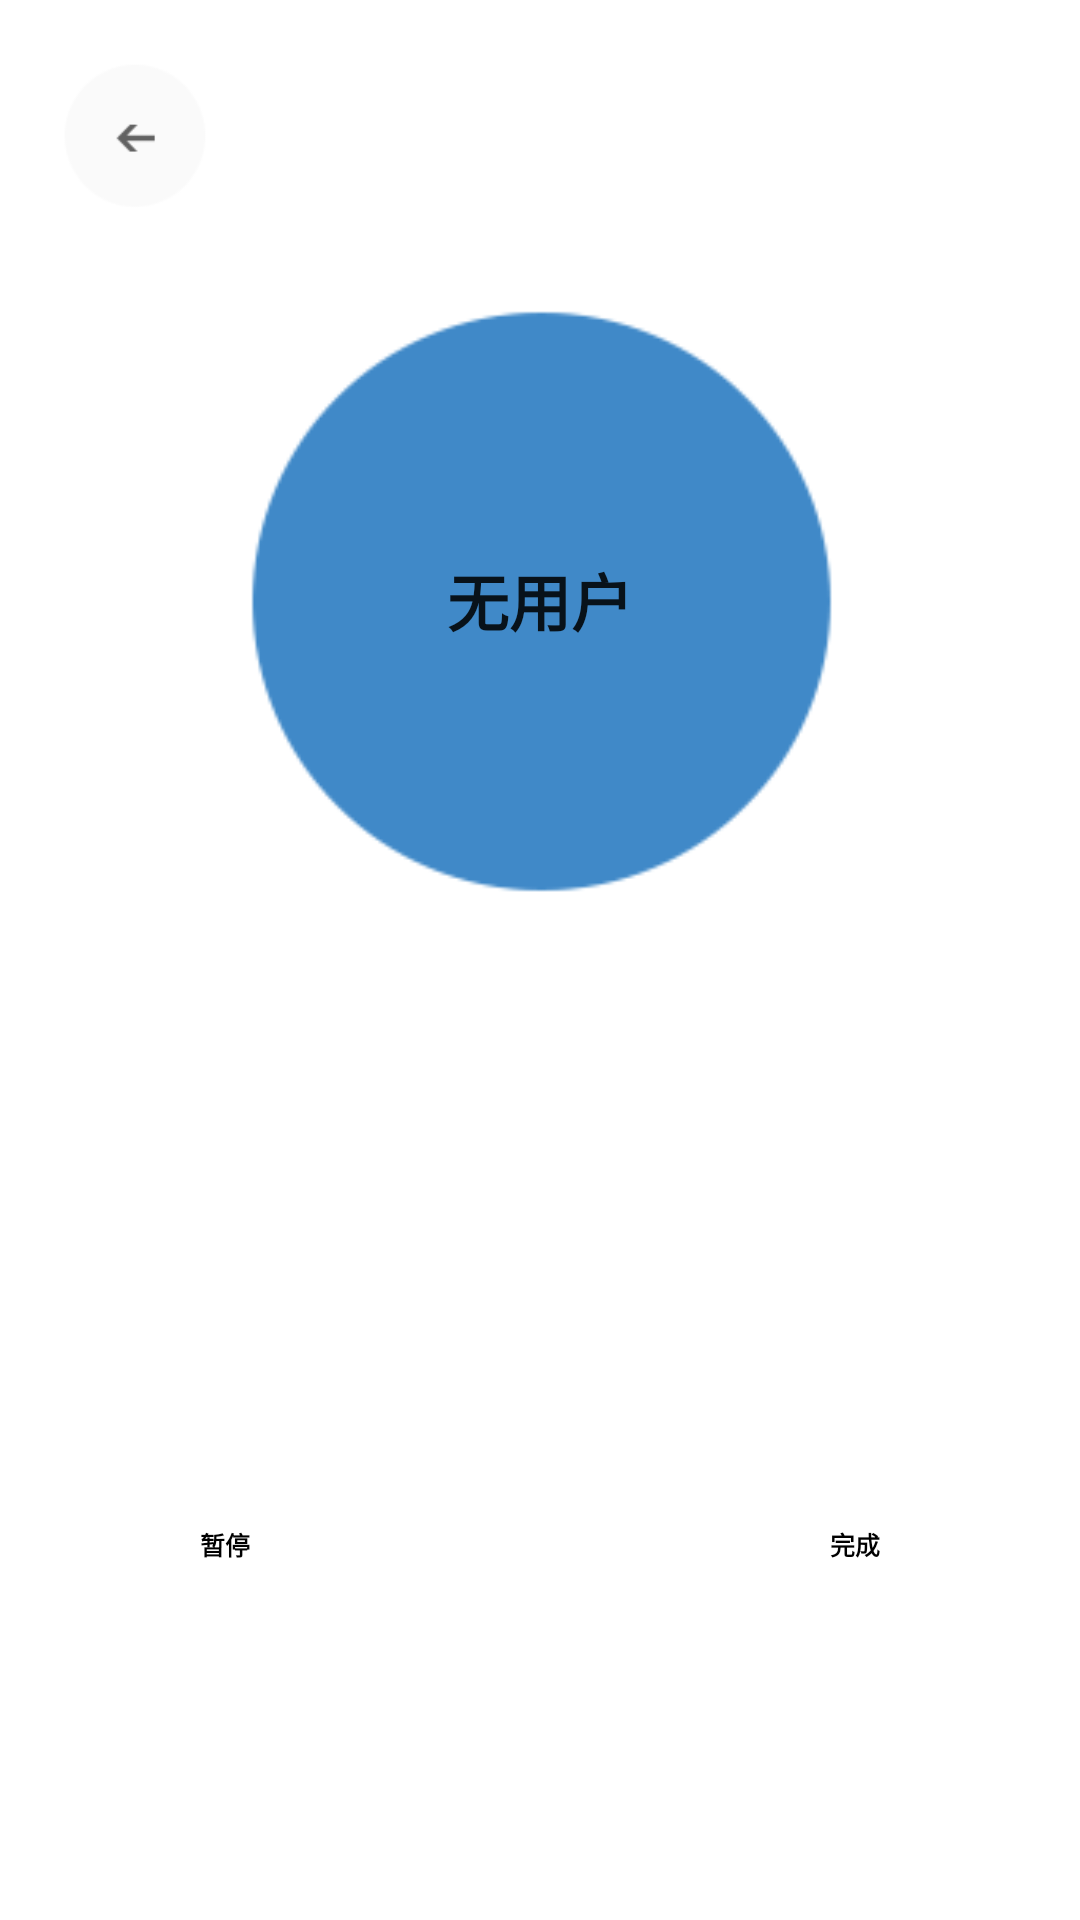

Icons on this 1080 x 1920 Android screen, each with its box as (x1, y1, x2, y2):
back: (116, 124, 155, 152)
